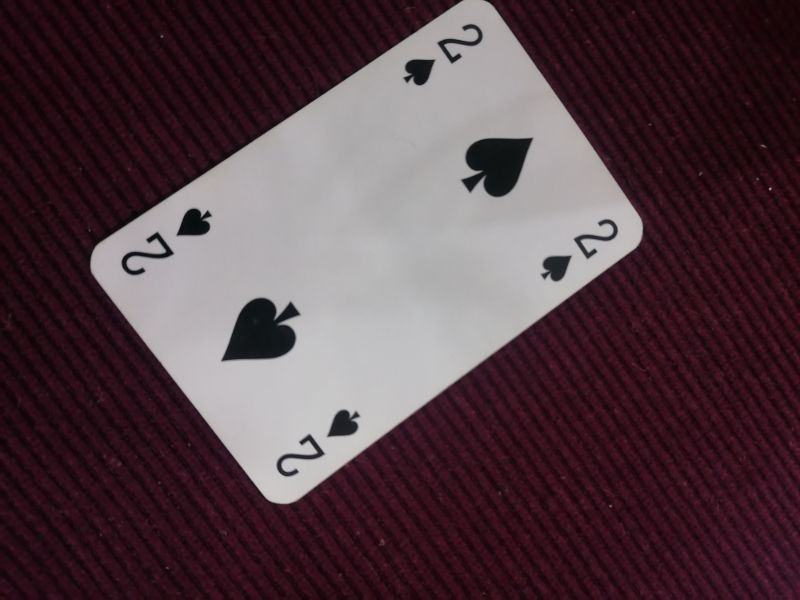2s: (117, 201, 217, 284), (274, 403, 366, 480), (398, 19, 486, 88), (538, 215, 622, 285)
